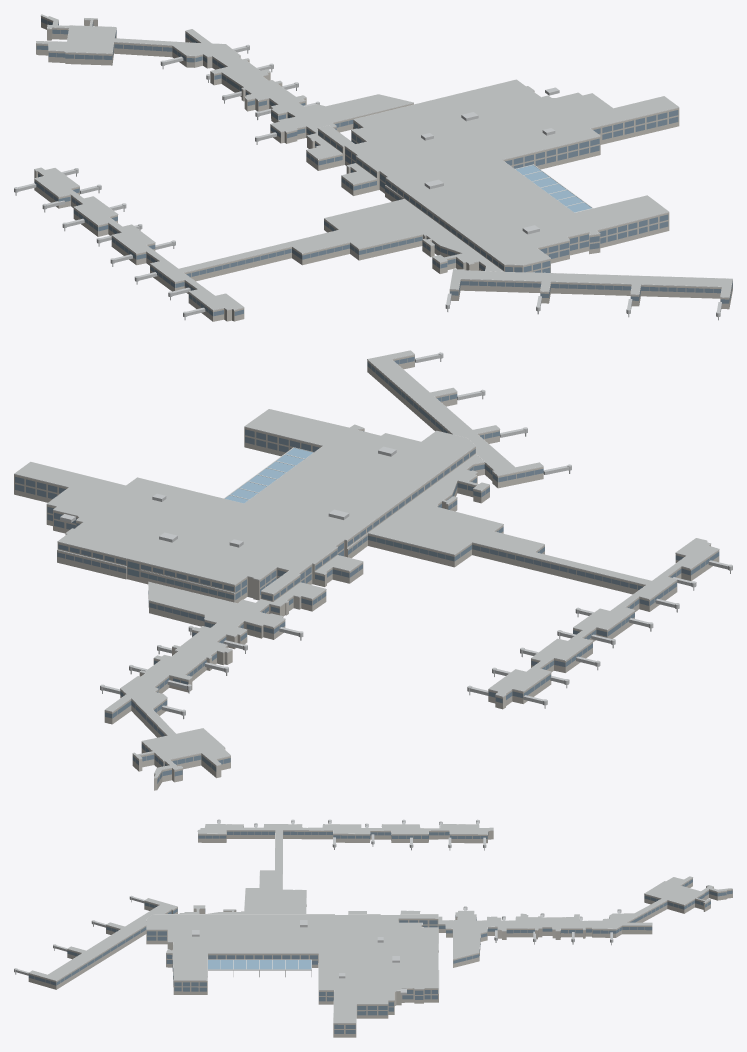
File: london-heathrow-terminal-3.glb
3 renders of one model, top to bottom at view 1: azimuth 30°, elevation 25°; view 2: azimuth 150°, elevation 25°; view 3: azimuth 270°, elevation 25°, orthographic. The views are drawn at different scales.
Parts seen in each view (by area): view 1: Heathrow Terminal 3; view 2: Heathrow Terminal 3; view 3: Heathrow Terminal 3.
Part boxes in pixels (x1=…): Heathrow Terminal 3: x1=14, y1=14, x2=732, y2=321; Heathrow Terminal 3: x1=14, y1=350, x2=732, y2=790; Heathrow Terminal 3: x1=14, y1=819, x2=732, y2=1037.
Bounding box in the file's own units: 653 × 24 × 934.
